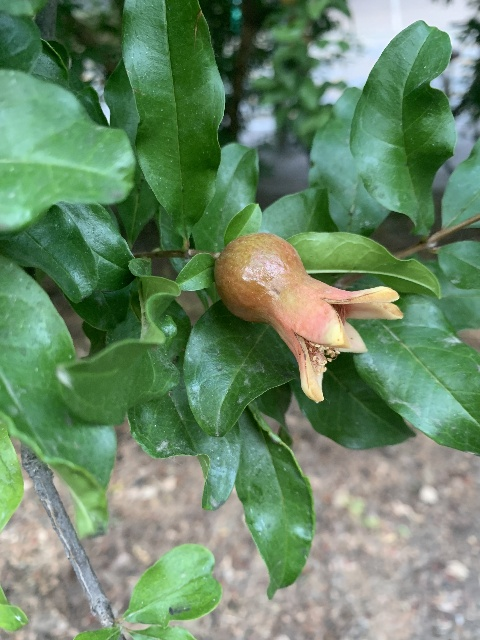early-fruit: (215, 233, 403, 403)
